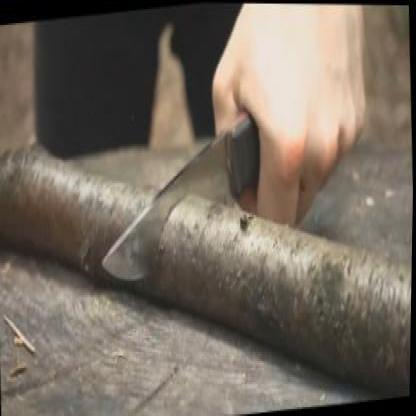knife: (86, 76, 290, 298)
